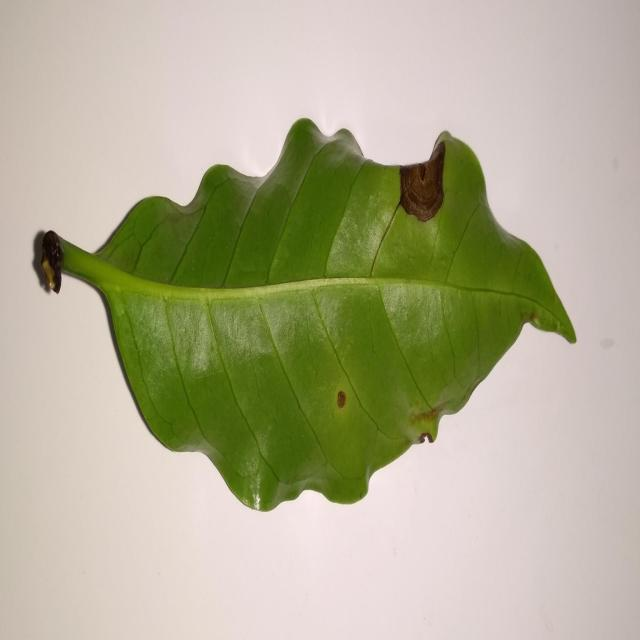phoma: (398, 136, 445, 222)
